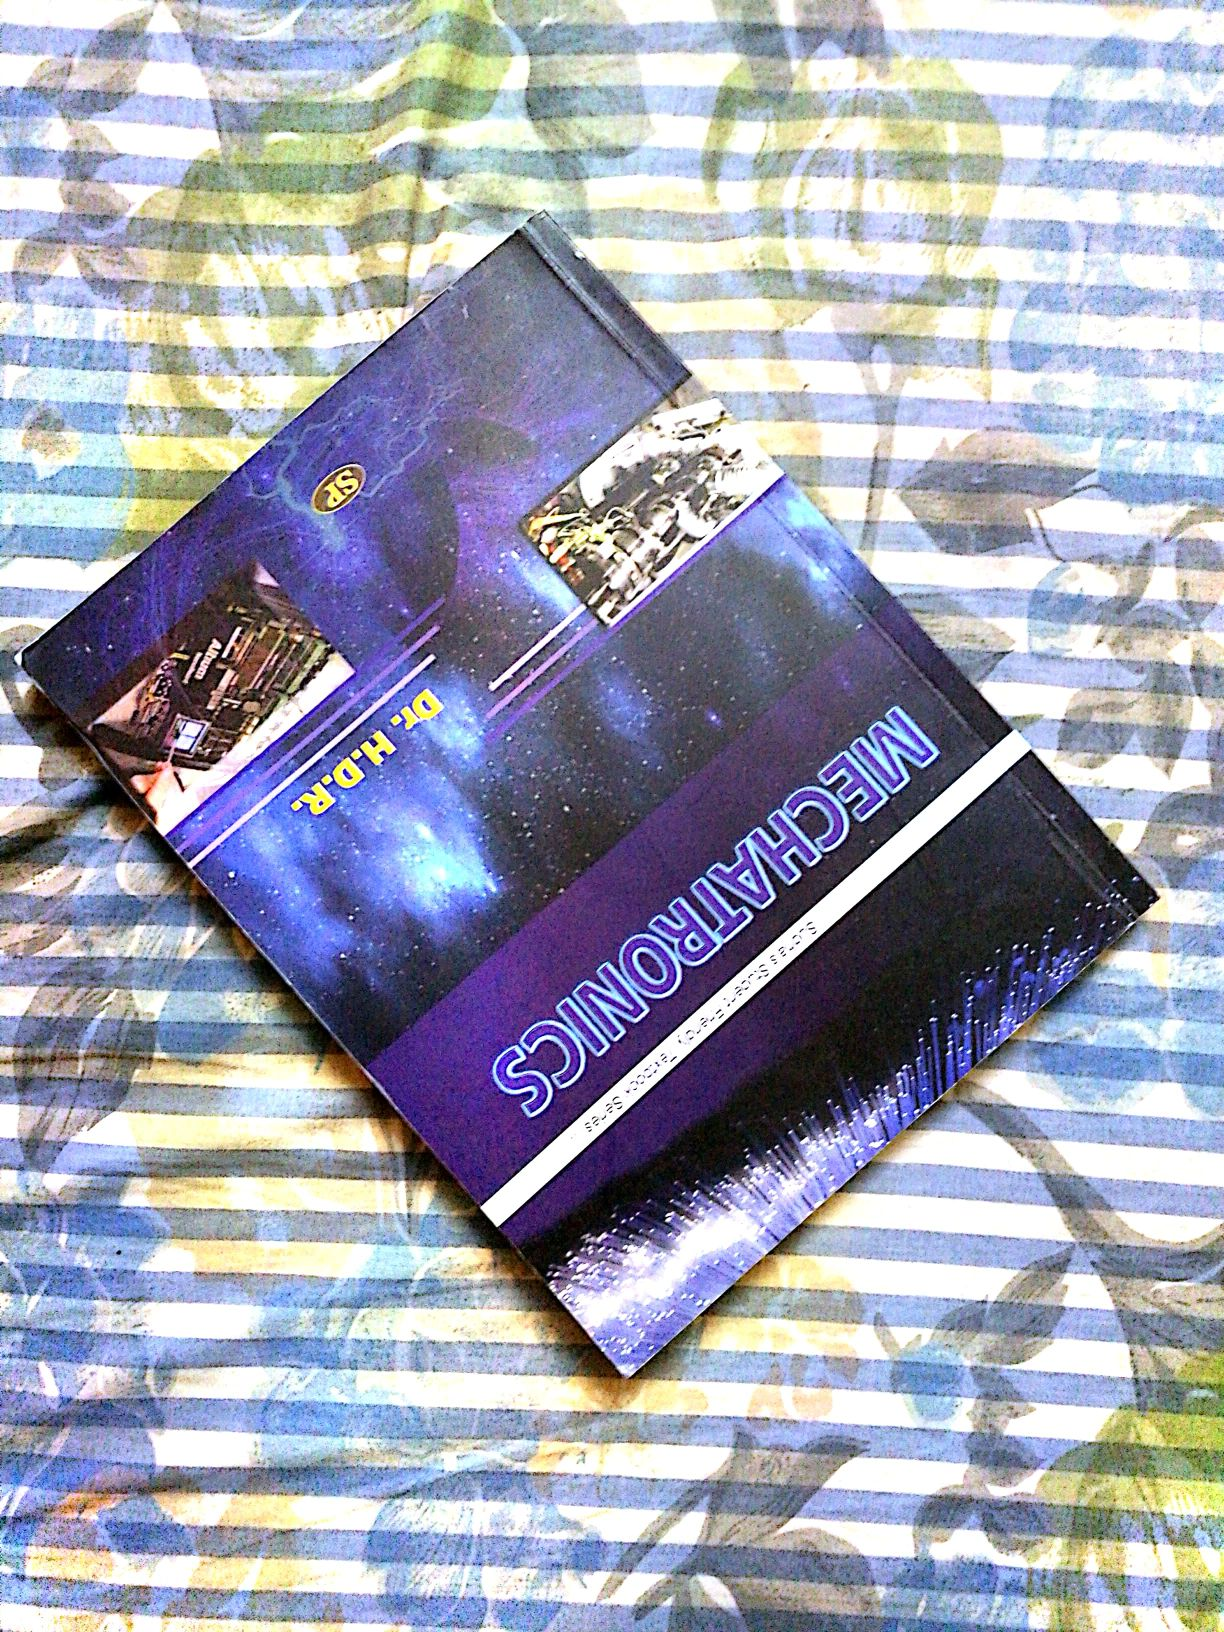mechatronics: (80, 249, 1134, 1390)
